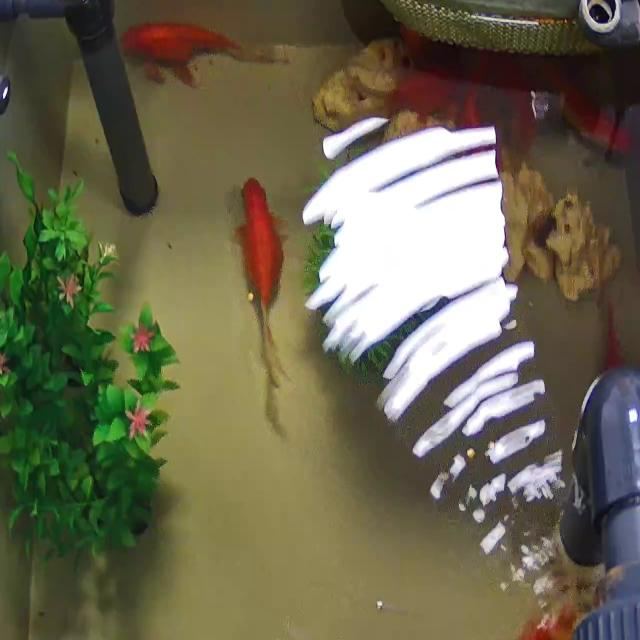fish: (231, 155, 294, 397), (113, 11, 264, 81), (545, 69, 640, 167), (386, 60, 454, 126), (457, 60, 500, 154), (471, 606, 573, 640)
